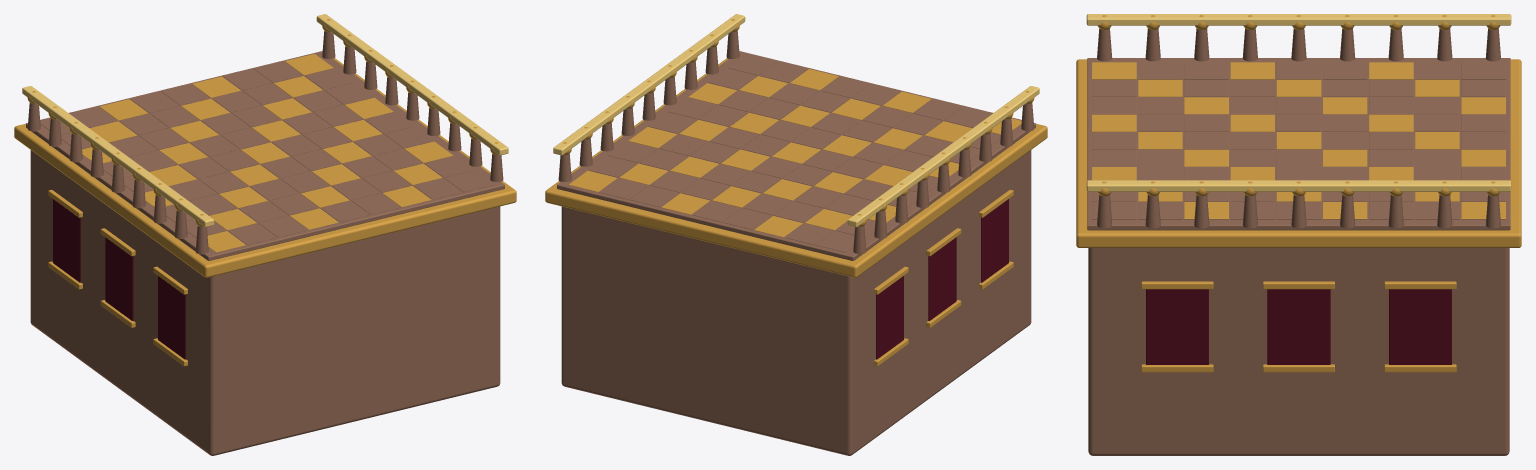
File: temple-rooftop.glb
3 renders of one model, left to right at view 1: azimuth 30°, elevation 25°; view 2: azimuth 150°, elevation 25°; view 3: azimuth 270°, elevation 25°, orthographic. The views are drawn at different scales.
Parts seen in each view (by area): view 1: Carved sandstone, Antique golden embroidery, Oxblood lacquer, Polished gold edges; view 2: Carved sandstone, Antique golden embroidery, Oxblood lacquer, Polished gold edges; view 3: Carved sandstone, Antique golden embroidery, Oxblood lacquer, Polished gold edges.
Boxes of the visible parts, box(x1,y1,x2,y2) form: Carved sandstone: box(26, 31, 504, 455); Antique golden embroidery: box(14, 19, 516, 366); Oxblood lacquer: box(53, 199, 185, 359); Polished gold edges: box(22, 14, 508, 227); Carved sandstone: box(557, 31, 1035, 455); Antique golden embroidery: box(545, 19, 1047, 366); Oxblood lacquer: box(876, 199, 1008, 359); Polished gold edges: box(553, 14, 1039, 227); Carved sandstone: box(1087, 28, 1510, 455); Antique golden embroidery: box(1076, 15, 1521, 372); Oxblood lacquer: box(1146, 289, 1451, 364); Polished gold edges: box(1086, 14, 1511, 191).
Size of the model in its own units: 5.15 by 3.77 by 5.5.
